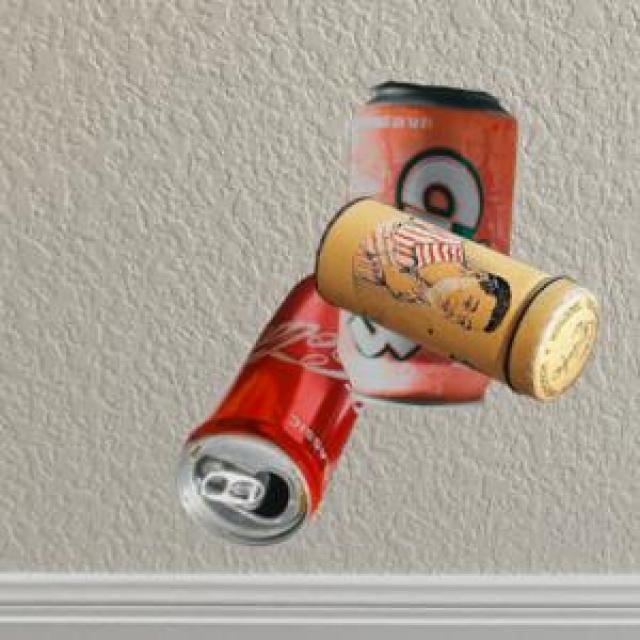Can: (334, 78, 513, 404), (313, 195, 596, 398), (174, 272, 362, 543)
